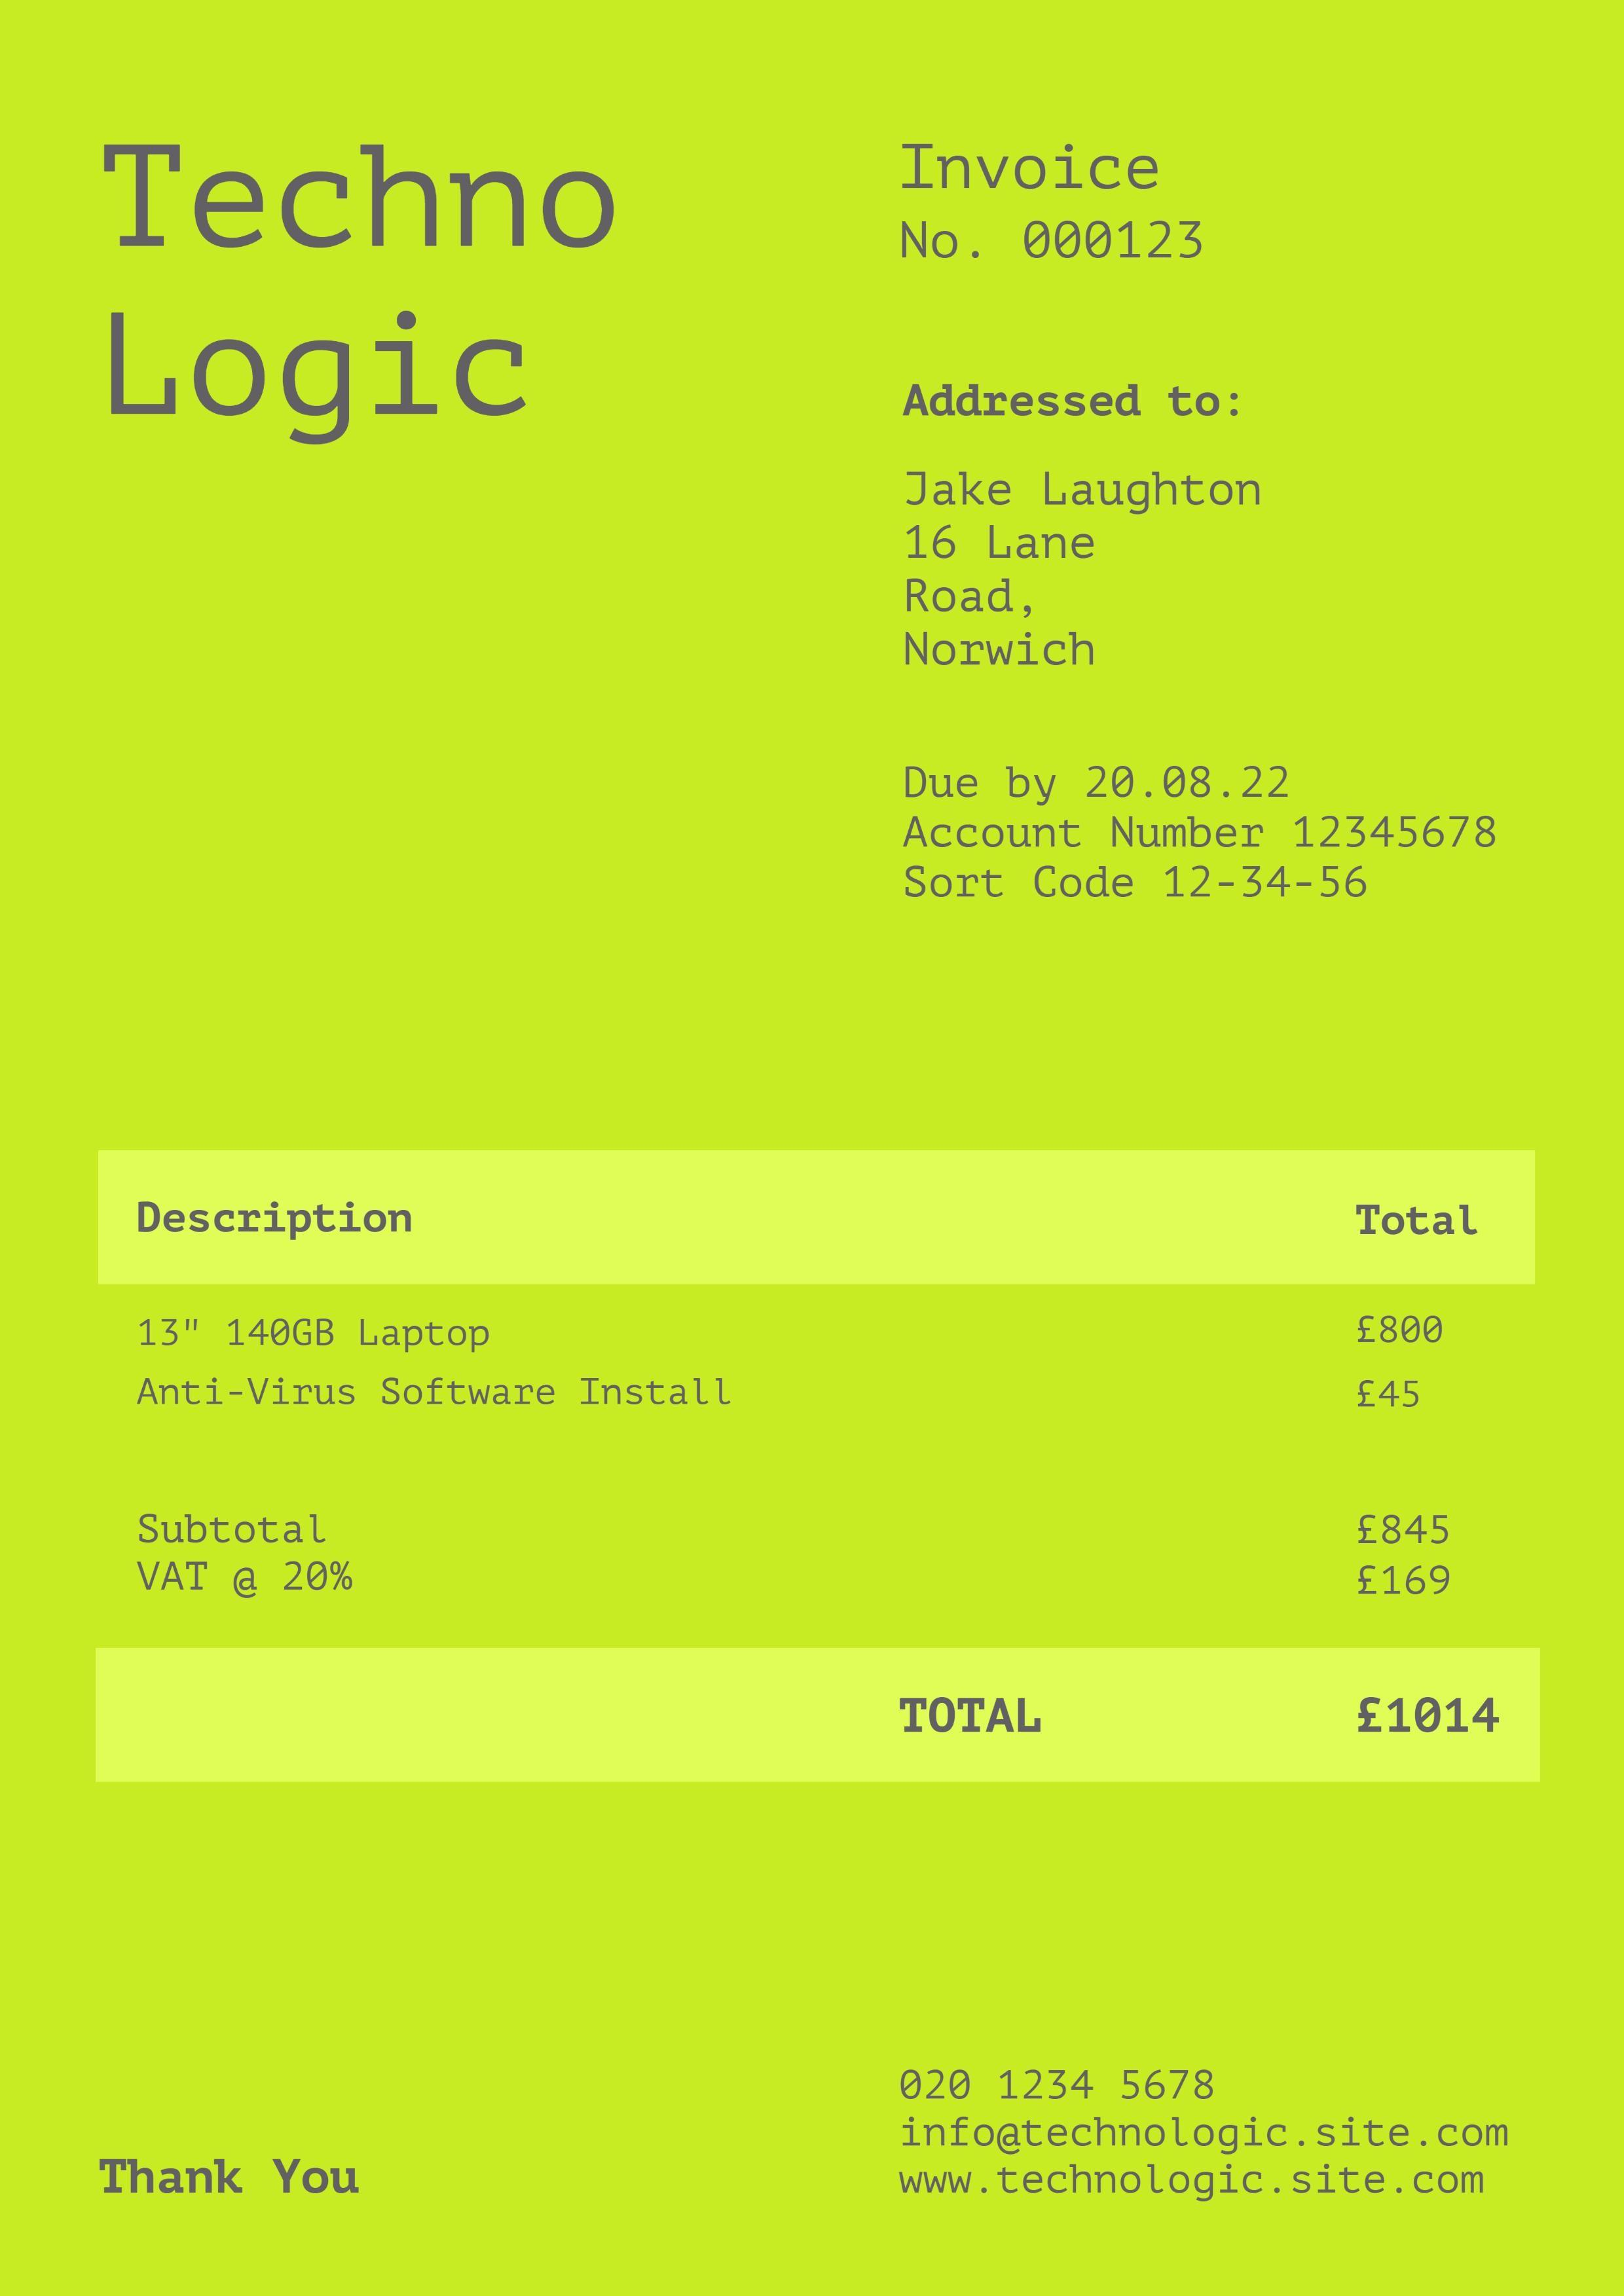ROI: (103, 1149, 1501, 1601), (73, 101, 731, 478), (893, 365, 1301, 693), (900, 756, 1539, 953), (872, 1652, 1529, 1772), (874, 118, 1239, 293)
